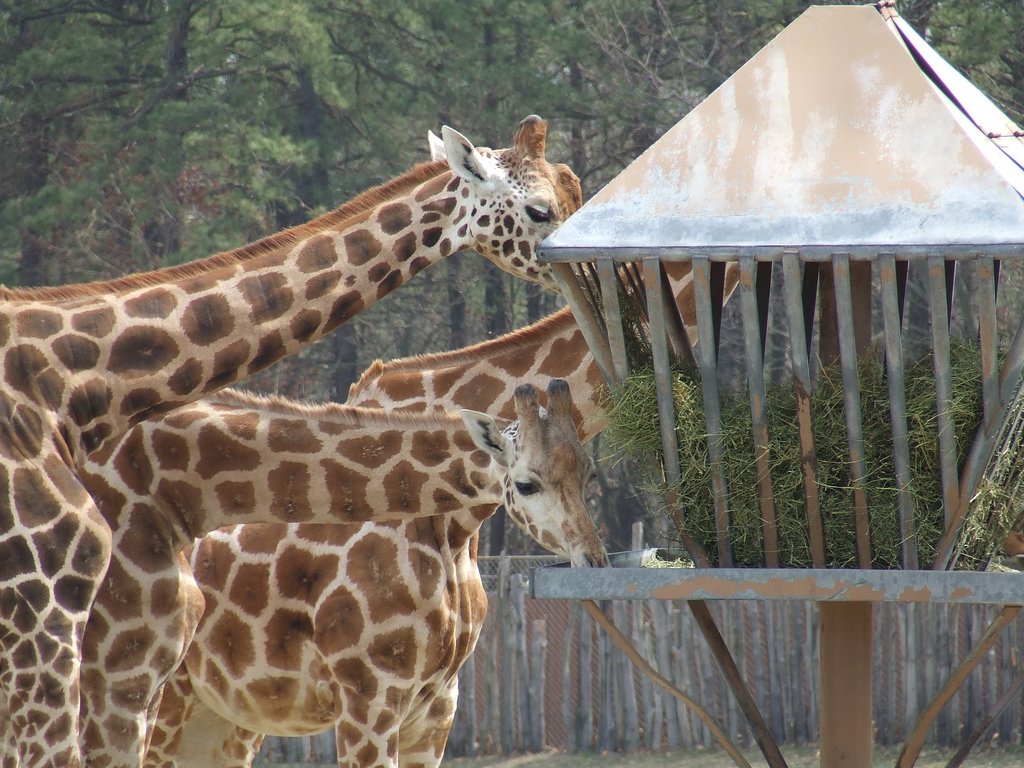giraffe: (1, 109, 638, 695), (67, 375, 624, 719)
